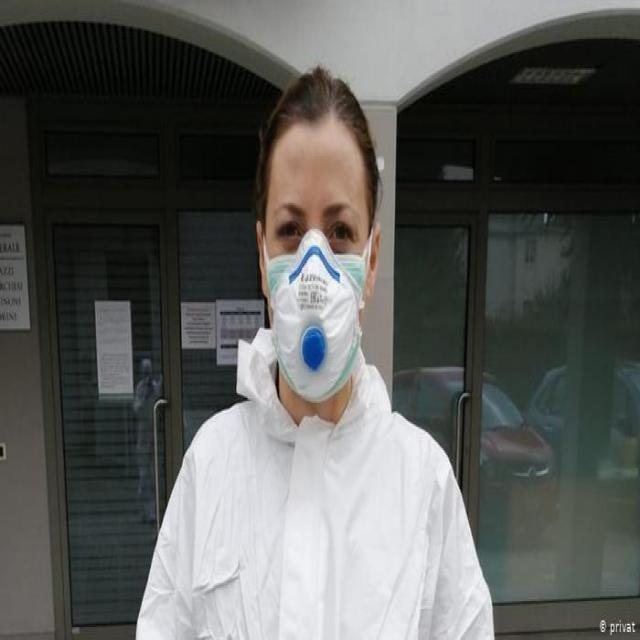Coverall: (137, 396, 495, 635)
Mask: (270, 224, 368, 403)
